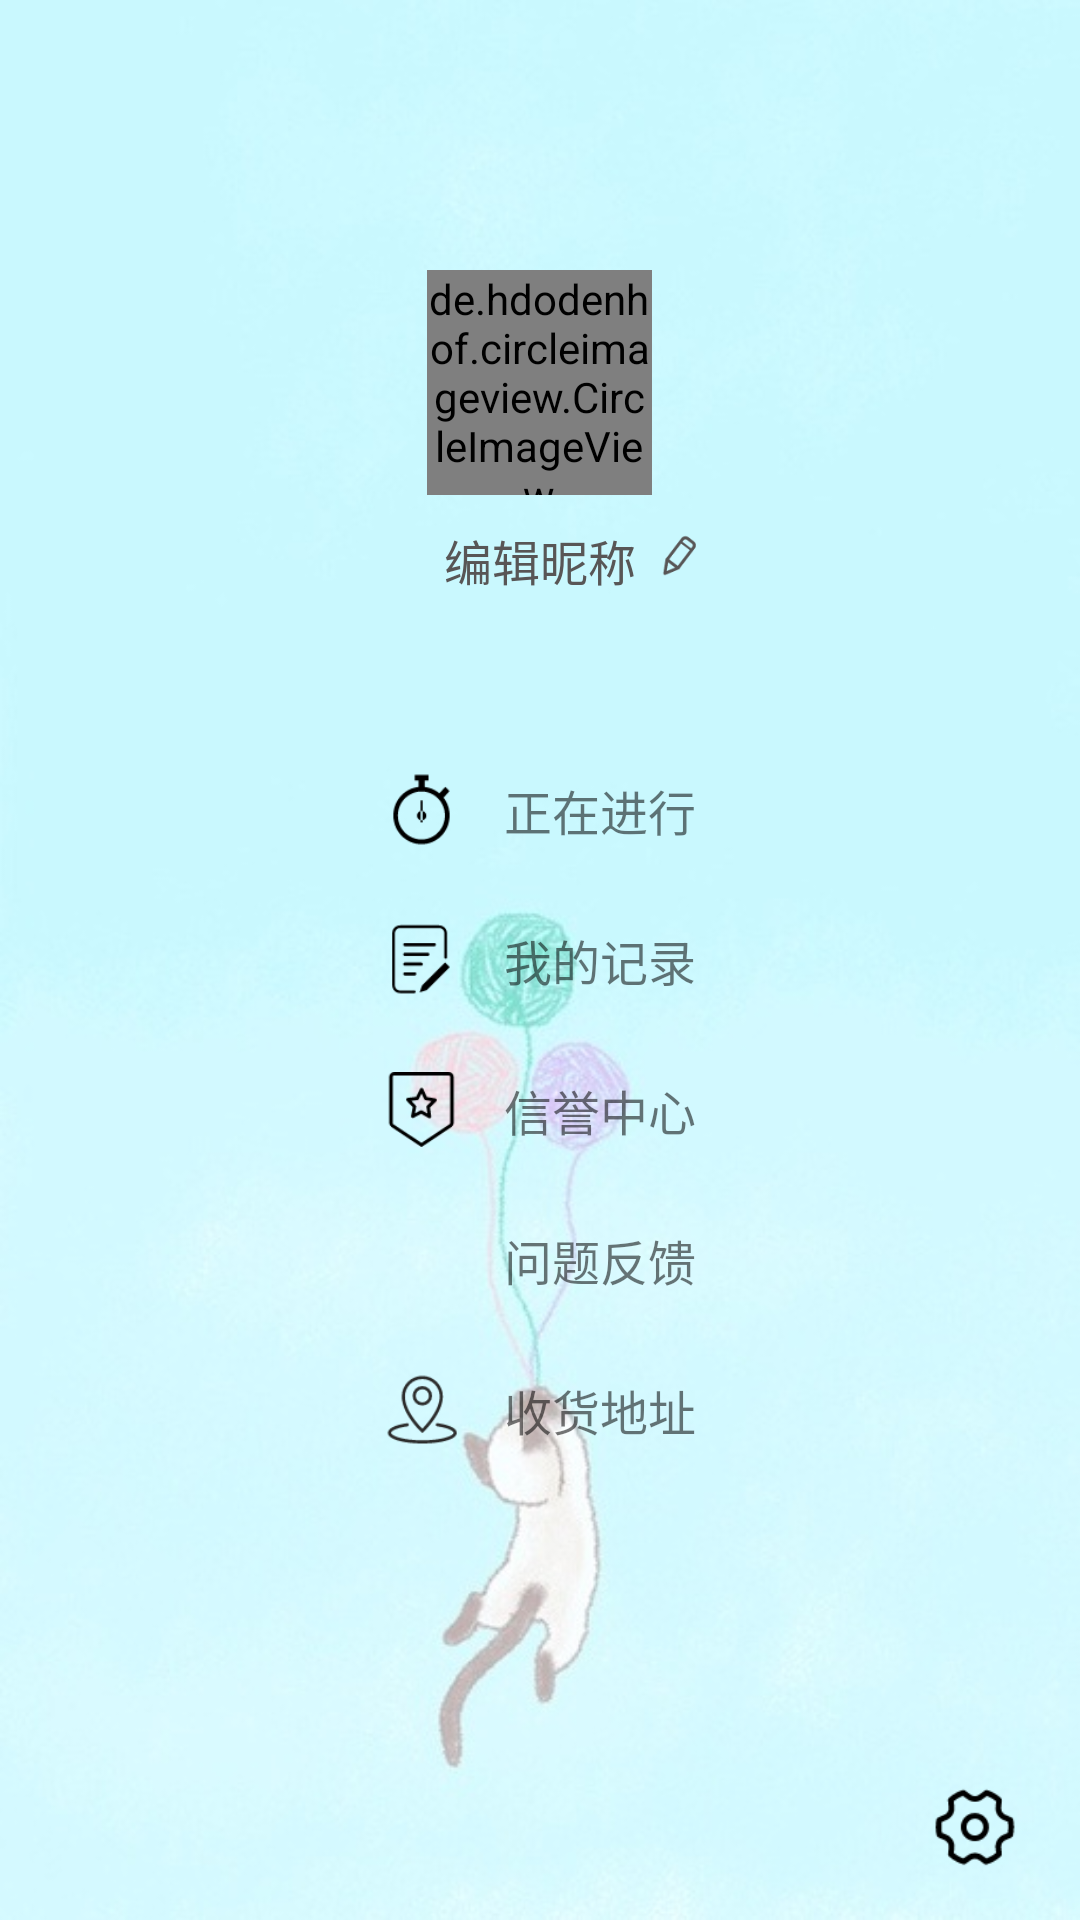

Screen size 1080x1920. Icon name, then its center in pixels as (x=x, y=y):
address: (x=422, y=1409)
going: (x=421, y=809)
nickname pen: (x=679, y=555)
record: (x=421, y=959)
reputation: (x=423, y=1109)
setting: (x=975, y=1827)
